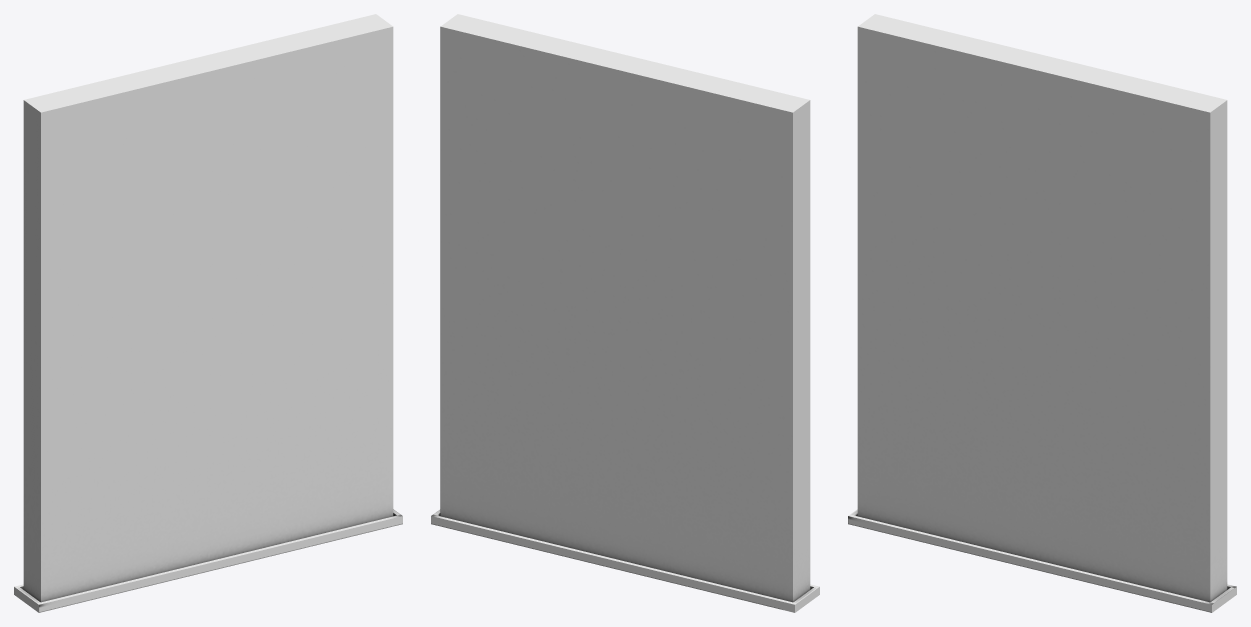
Rendered from AnimatedDoor.fbx.
The picture shows the model from 3 angles, left to right: view 1: azimuth 30°, elevation 25°; view 2: azimuth 150°, elevation 25°; view 3: azimuth 330°, elevation 25°; orthographic projection.
Parts seen in each view (by area): view 1: Spike, Base; view 2: Spike, Base; view 3: Spike, Base.
Boxes of the visible parts, x1,y1,x2,y2 form: Spike: (23,14,393,602); Base: (14,509,402,612); Spike: (440,14,810,602); Base: (431,509,819,612); Spike: (857,14,1227,602); Base: (848,509,1236,612).
Size of the model in its own units: 602 by 71.13 by 785.
